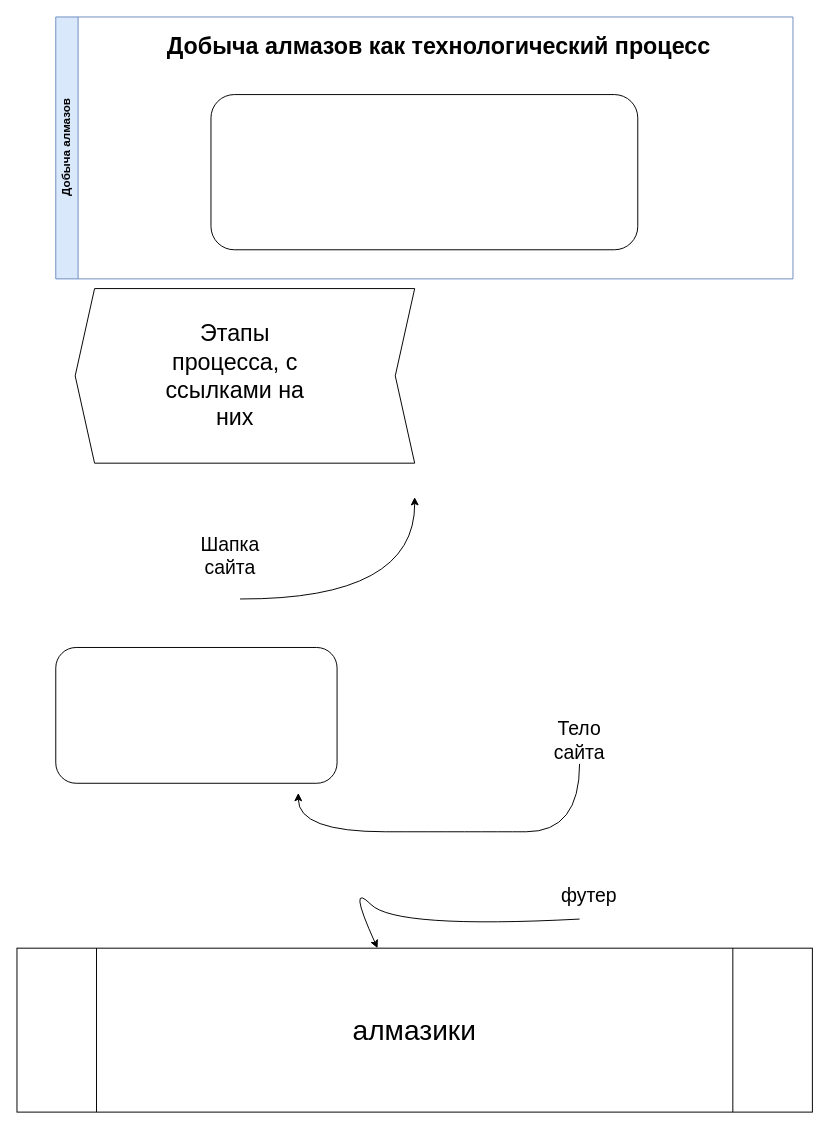
Some shapes in this 829 by 1129 pixel diagram are drawn without their labels. Here are the shapes that lost their labels. From the top down, the centre of each, then its label:
At [424,172]: "Место для фото".
At [196,715]: "понятие тех процесса этапы данного процесса место для картинок".
